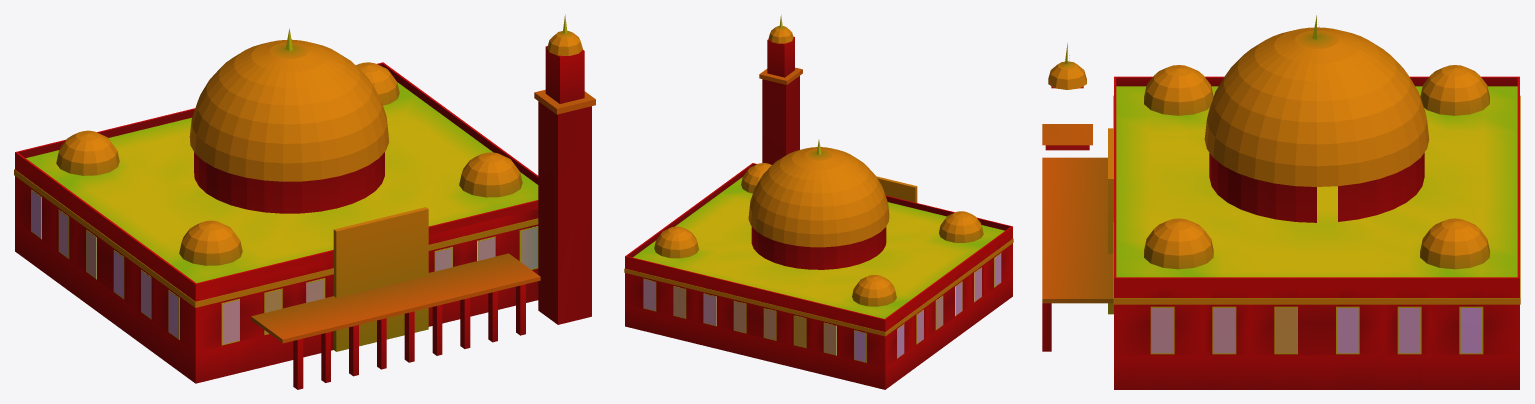
Rendered from masjid_denai_alam.glb.
3 renders of one model, left to right at view 1: azimuth 30°, elevation 25°; view 2: azimuth 150°, elevation 25°; view 3: azimuth 270°, elevation 25°, orthographic. The views are drawn at different scales.
Parts seen in each view (by area): view 1: masjid_denai_alam__main__LOD0; view 2: masjid_denai_alam__main__LOD0; view 3: masjid_denai_alam__main__LOD0.
Part boxes in pixels (box(x1,y1,x2,y2)): masjid_denai_alam__main__LOD0: box(14, 14, 595, 389); masjid_denai_alam__main__LOD0: box(624, 14, 1013, 389); masjid_denai_alam__main__LOD0: box(1042, 15, 1520, 389).
Size of what is drawn, in the model's own units: 40.12 by 31.1 by 40.06.
